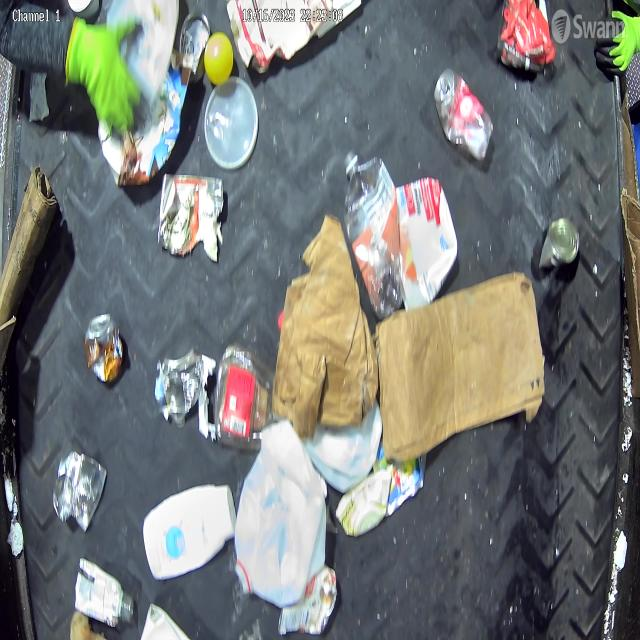can: (434, 69, 494, 163), (53, 447, 109, 532), (278, 562, 338, 638), (86, 312, 127, 387), (540, 216, 581, 274), (180, 9, 210, 82)
milk_jug: (235, 418, 329, 608), (306, 400, 384, 492)
plastic_bottle: (344, 148, 406, 318)
